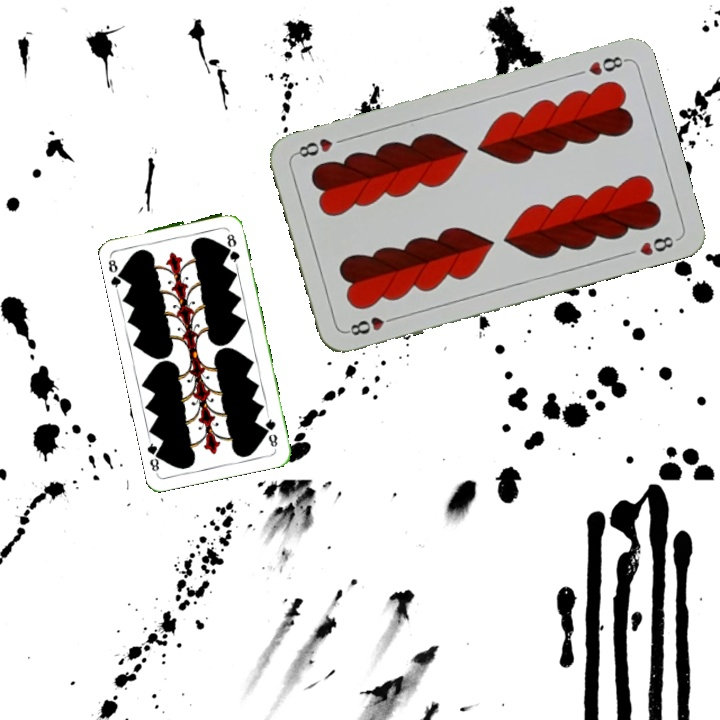G8: (104, 252, 127, 292), (261, 411, 280, 450)
H8: (343, 312, 401, 338), (584, 52, 629, 78)
